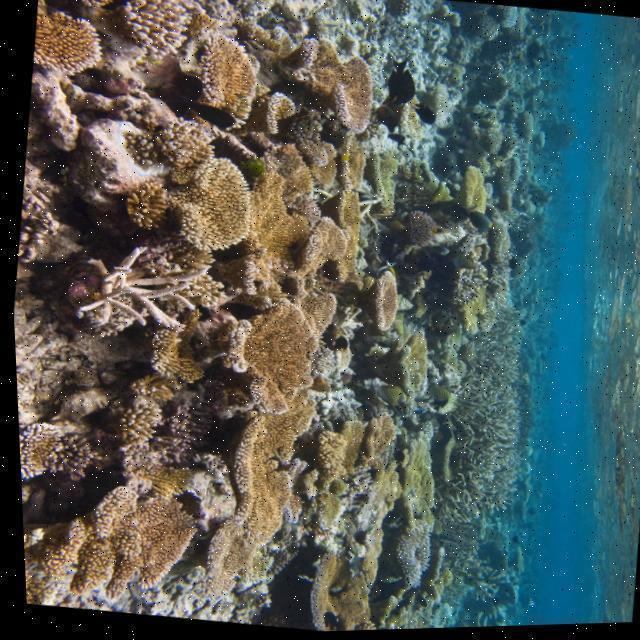Healthy Coral: (0, 0, 409, 640), (61, 238, 213, 349), (272, 396, 402, 503), (294, 552, 382, 634), (348, 265, 413, 342), (357, 153, 408, 228), (444, 161, 496, 223), (391, 208, 441, 252)
